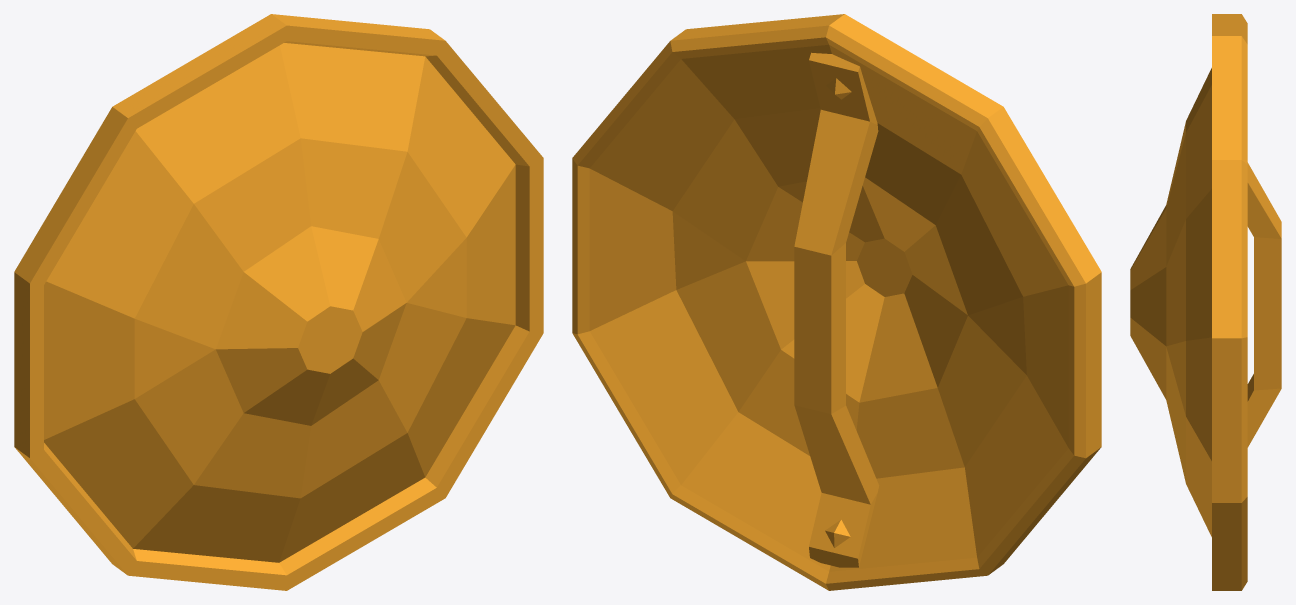
File: SM_Shield_Buckler_C.fbx
3 renders of one model, left to right at view 1: azimuth 30°, elevation 25°; view 2: azimuth 150°, elevation 25°; view 3: azimuth 270°, elevation 25°, orthographic. The views are drawn at different scales.
Visible parts, largest first — view 1: shield-buckler-c; view 2: shield-buckler-c; view 3: shield-buckler-c.
Part boxes in pixels (x1=…): shield-buckler-c: x1=14, y1=14, x2=543, y2=590; shield-buckler-c: x1=572, y1=14, x2=1101, y2=590; shield-buckler-c: x1=1130, y1=14, x2=1281, y2=590.
Bounding box in the file's own units: 0.3234 × 0.34 × 0.0877.
